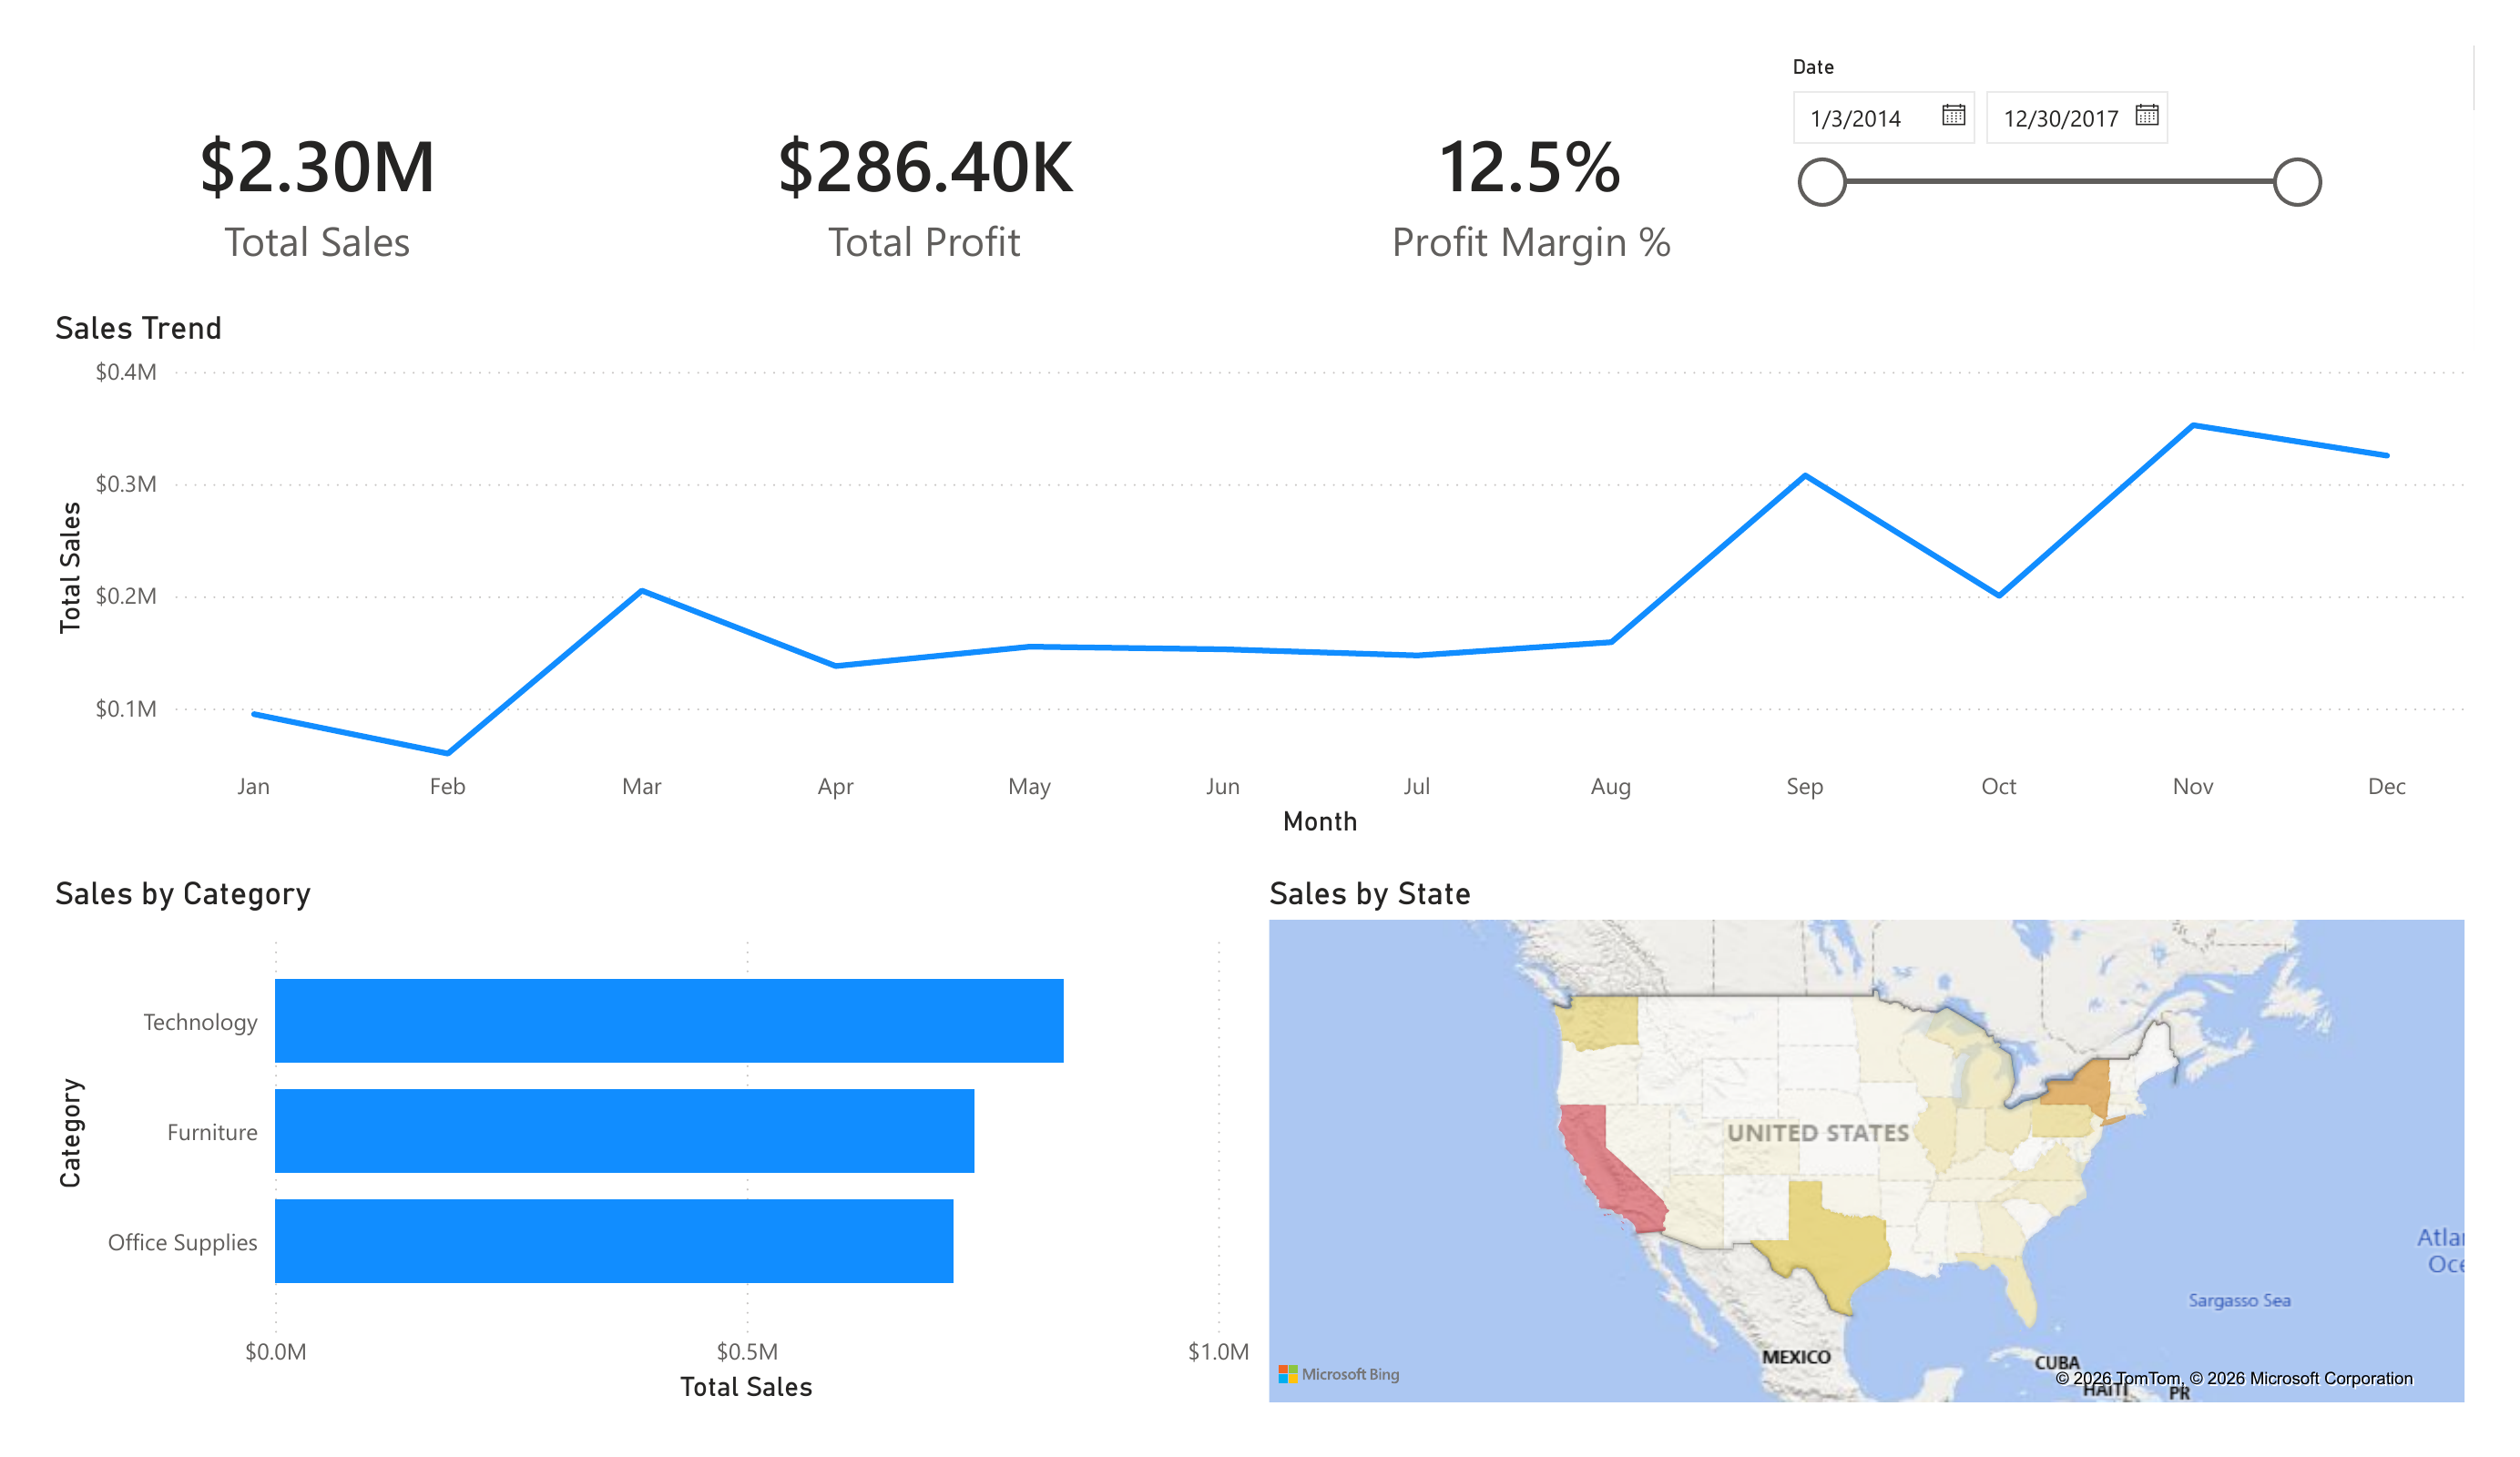

What the dashboard file says about the page in this screenshot:
{"tool":"powerbi","page":{"name":"Superstore Sales Overview","canvas":[1280,720],"ordinal":0},"visuals":[{"type":"cardVisual","fields":{"Data":["AllMeasures.Total Profit"]},"box":[320,0,287.9,152.7],"z":0},{"type":"cardVisual","fields":{"Data":["AllMeasures.Total Sales"]},"box":[0,0,287.8,152.5],"z":1000},{"type":"cardVisual","fields":{"Data":["AllMeasures.Profit Margin %"]},"box":[640,0,287.9,152.7],"z":2000},{"type":"lineChart","title":"Sales Trend","fields":{"Y":["AllMeasures.Total Sales"],"Category":["Dates.Month"]},"box":[0,139.3,1280,282.5],"z":3000},{"type":"clusteredBarChart","title":"Sales by Category","fields":{"Y":["AllMeasures.Total Sales"],"Category":["Orders.Category","Orders.Sub-Category"]},"box":[0,436.7,640.5,283.8],"z":4000},{"type":"filledMap","title":"Sales by State","fields":{"Category":["Orders.State"]},"box":[640,437,640,283],"z":5000},{"type":"slicer","fields":{"Values":["Dates.Date"]},"box":[908.4,0,299.6,139.1],"z":5001}]}

Visuals, with their boxes on the page's 1280x720 design canvas (x1, y1, x2, y2). These are canvas units, not pixel positions in the 2520x1457 screenshot, which may show the page scaled, cropped or inside an application window:
cardVisual - AllMeasures.Total Profit: [left=320, top=0, right=608, bottom=153]
cardVisual - AllMeasures.Total Sales: [left=0, top=0, right=288, bottom=152]
cardVisual - AllMeasures.Profit Margin %: [left=640, top=0, right=928, bottom=153]
"Sales Trend" lineChart: [left=0, top=139, right=1280, bottom=422]
"Sales by Category" clusteredBarChart: [left=0, top=437, right=640, bottom=720]
"Sales by State" filledMap: [left=640, top=437, right=1280, bottom=720]
slicer - Dates.Date: [left=908, top=0, right=1208, bottom=139]
